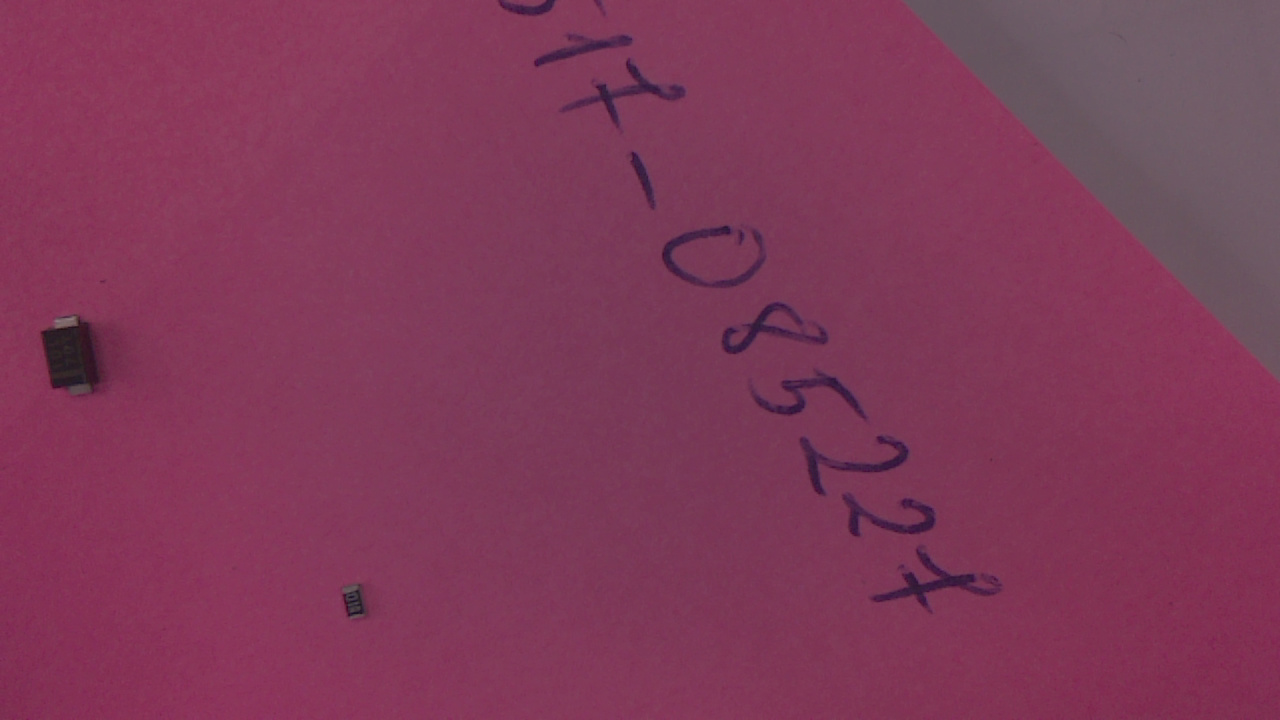Diode: (42, 317, 109, 401)
Resistor: (344, 585, 375, 627)
